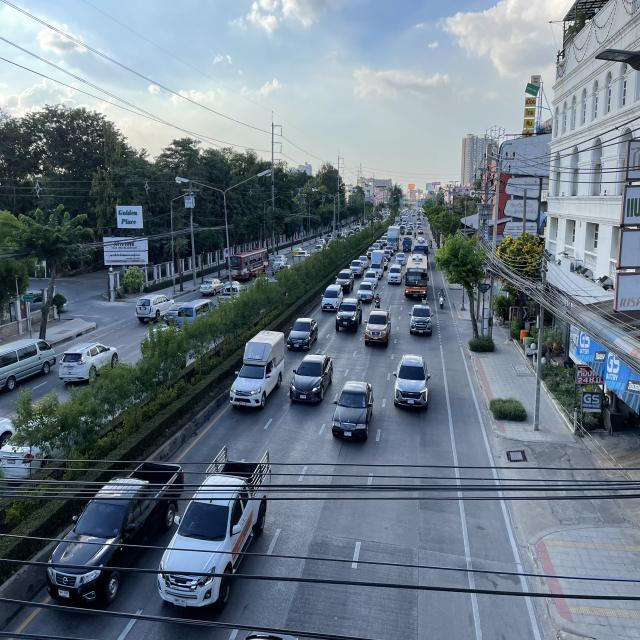bike: (437, 284, 446, 311), (374, 292, 381, 308)
bus: (403, 254, 428, 299), (414, 237, 429, 268)
car: (44, 460, 185, 605), (331, 381, 375, 444), (289, 354, 334, 405), (393, 354, 430, 414), (364, 305, 392, 348), (286, 317, 318, 352), (335, 298, 362, 332), (409, 302, 433, 336), (321, 284, 343, 312), (334, 268, 355, 294), (356, 282, 374, 302), (388, 264, 402, 284), (349, 259, 364, 277), (362, 272, 378, 288), (395, 252, 406, 265)
truck: (155, 447, 274, 610), (229, 332, 285, 412), (368, 250, 385, 280), (386, 225, 401, 251), (402, 236, 412, 252)
